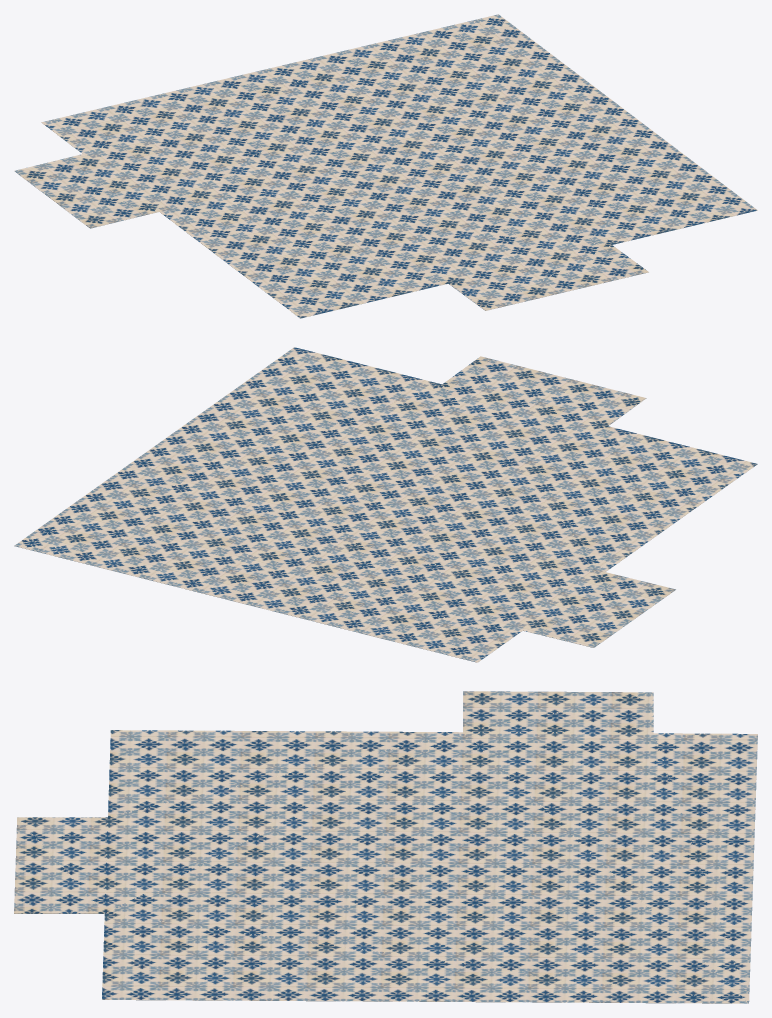
The model's file is pavimentoStanzino.glb.
3 renders of one model, top to bottom at view 1: azimuth 30°, elevation 25°; view 2: azimuth 150°, elevation 25°; view 3: azimuth 270°, elevation 25°, orthographic. The views are drawn at different scales.
Parts seen in each view (by area): view 1: PavimentoStanzino; view 2: PavimentoStanzino; view 3: PavimentoStanzino.
Boxes of the visible parts, x1,y1,x2,y2 form: PavimentoStanzino: [14, 14, 757, 318]; PavimentoStanzino: [14, 347, 757, 662]; PavimentoStanzino: [14, 691, 757, 1003].
Bounding box in the file's own units: 3.79 × 0.001 × 3.81.
Materials: 1 (1 with a texture image).
